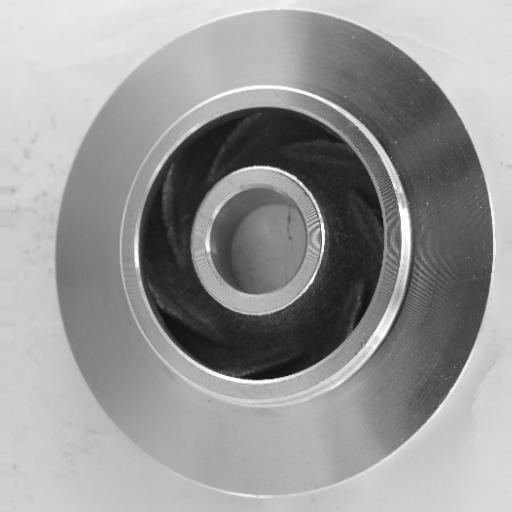polished_casting: (52, 9, 494, 499)
